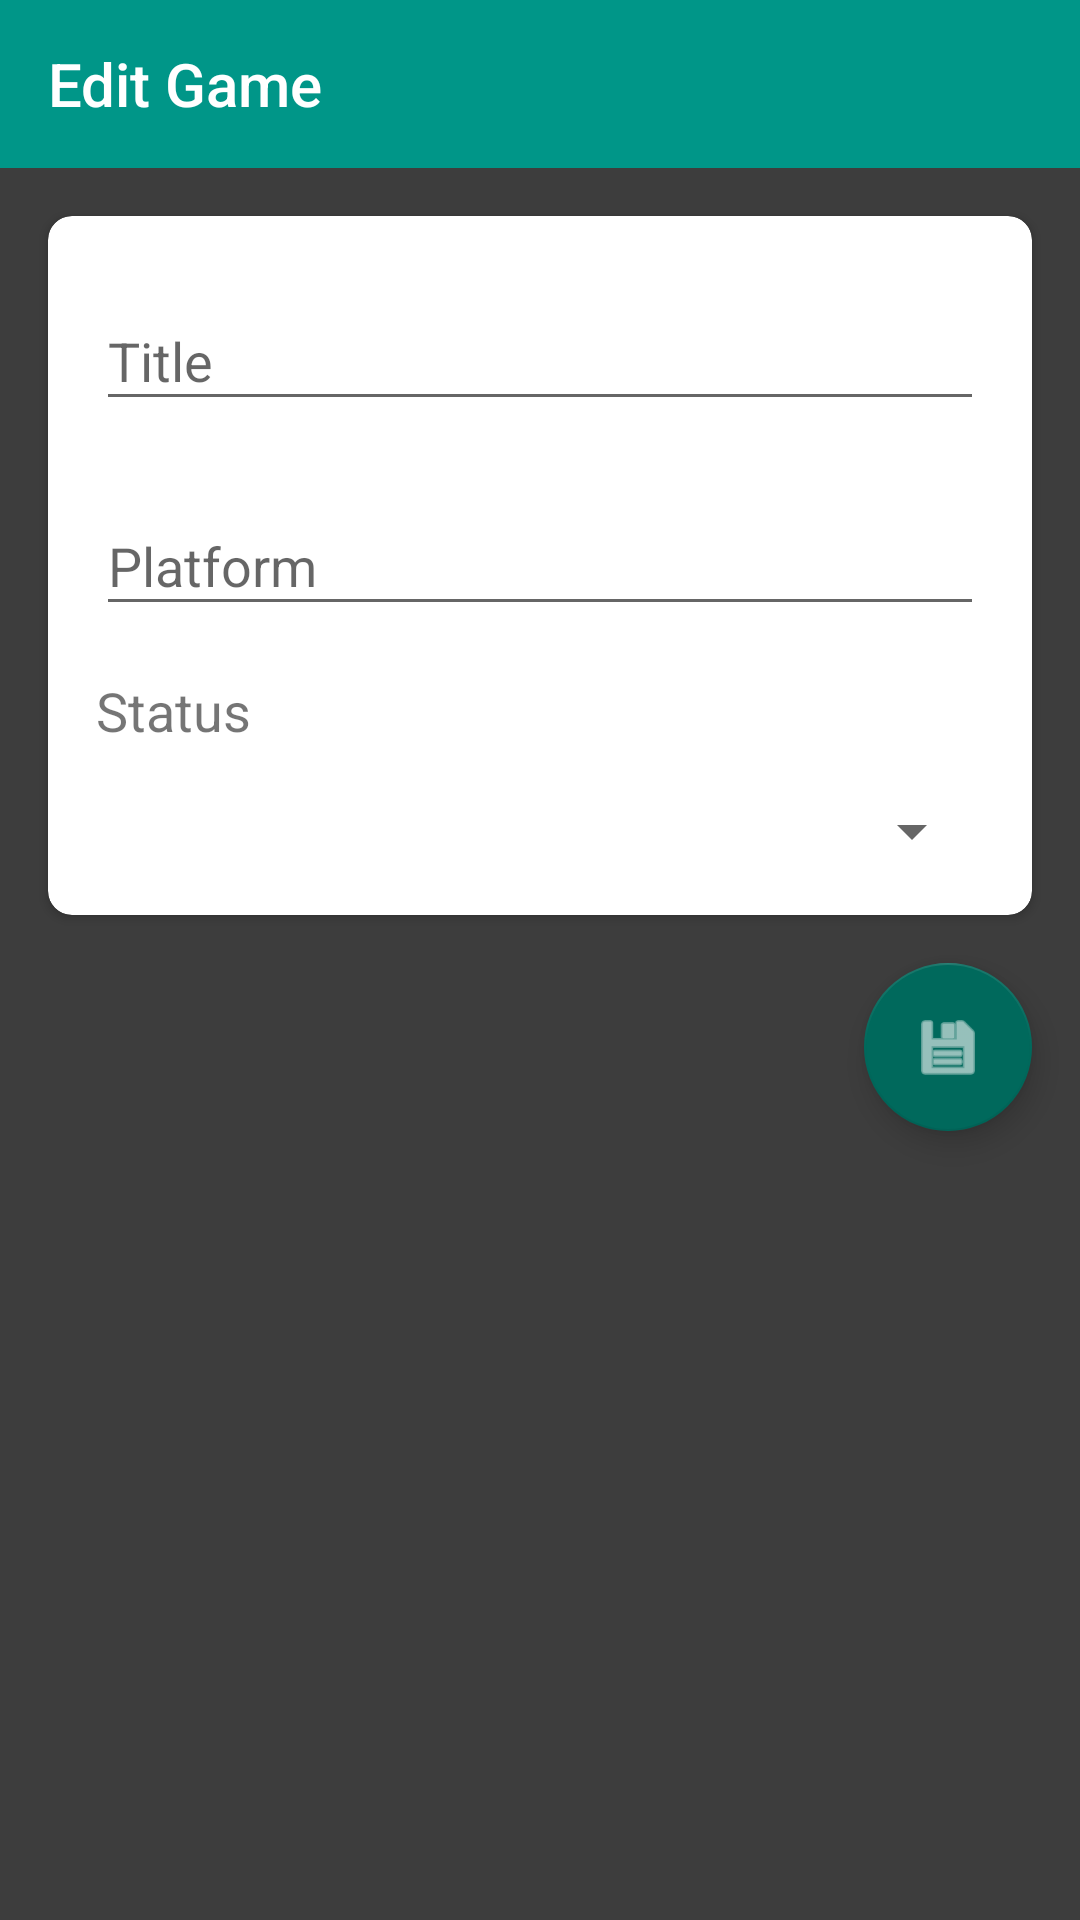

Named icons in this screenshot (1080 × 1920) and their bounding boxes, (x1, y1, x2, y2):
save: (864, 963, 1032, 1131)
